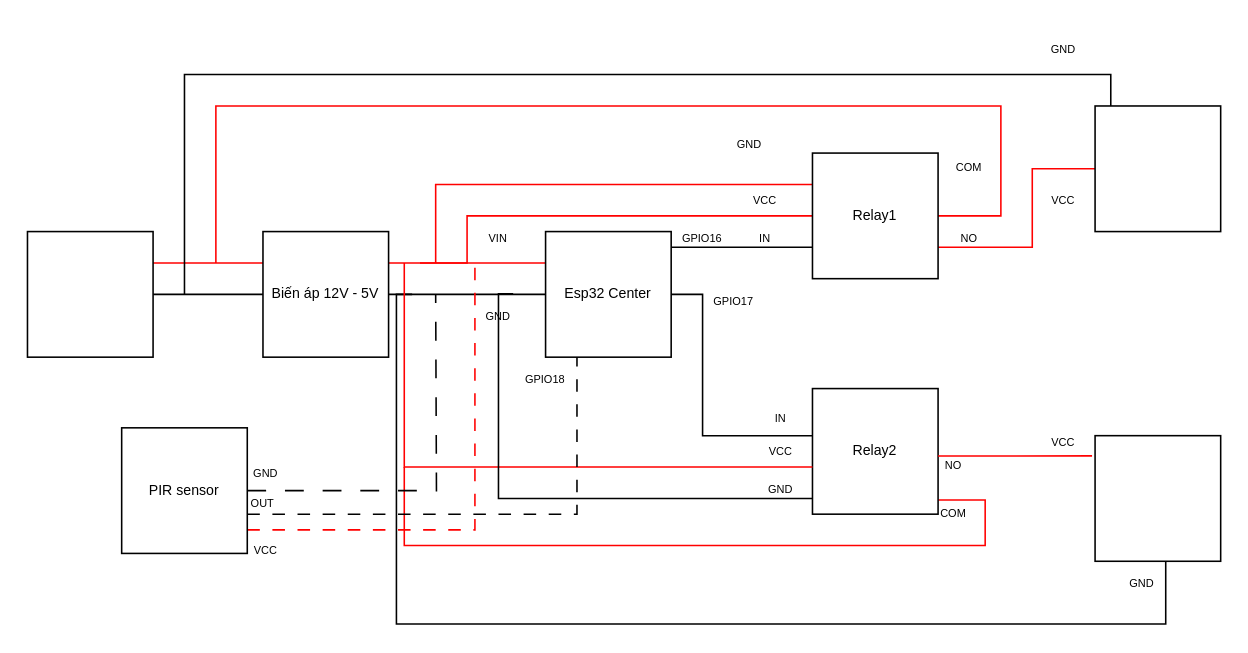
Some shapes in this 1248 by 653 pixel diagram are drawn without their labels. The centre of each missing label's shape, as x and y in pixels:
"ESP32 CAM" belongs at (1157,497).
"Khóa" belongs at (1157,168).
"Nguồn 12V" belongs at (89,293).
